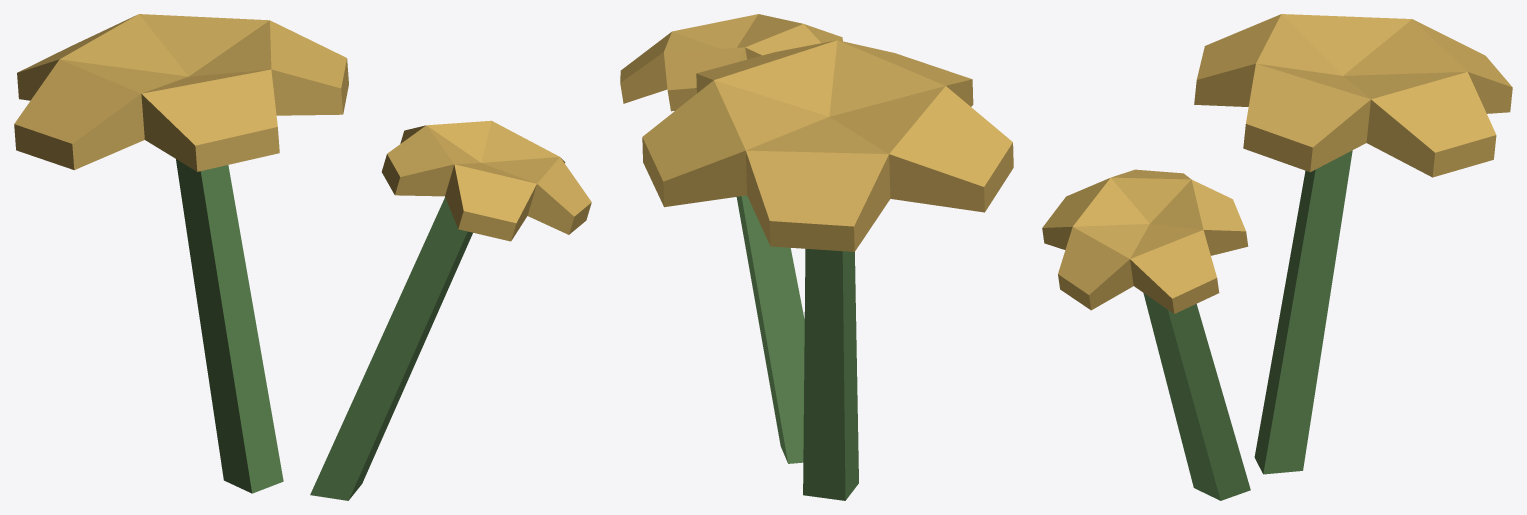
Rendered from event_7.fbx.
The picture shows the model from 3 angles, left to right: view 1: azimuth 30°, elevation 25°; view 2: azimuth 150°, elevation 25°; view 3: azimuth 270°, elevation 25°; orthographic projection. The views are drawn at different scales.
Parts seen in each view (by area): view 1: event_07; view 2: event_07; view 3: event_07.
Boxes of the visible parts, x1=… form: event_07: x1=14, y1=14, x2=591, y2=500; event_07: x1=620, y1=14, x2=1013, y2=500; event_07: x1=1042, y1=14, x2=1512, y2=500.
Size of the model in its own units: 0.0279 by 0.0249 by 0.0263.
1 material, 1 textured.
